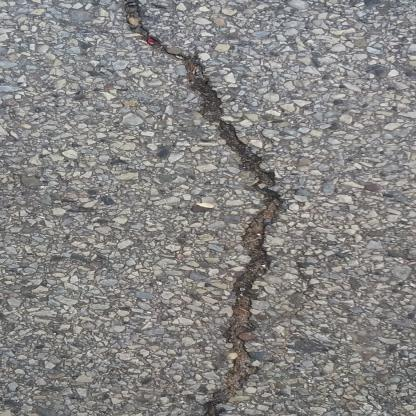Cracks: (74, 0, 287, 416)
